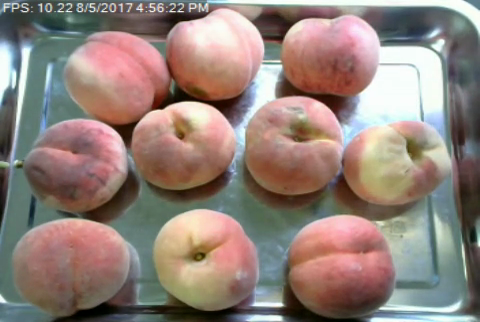Peach: (13, 216, 130, 315), (287, 215, 394, 319), (153, 209, 257, 310), (244, 95, 342, 195), (64, 28, 165, 125), (26, 118, 129, 213), (130, 99, 234, 190), (166, 7, 264, 102), (342, 119, 449, 206), (281, 14, 380, 98)
